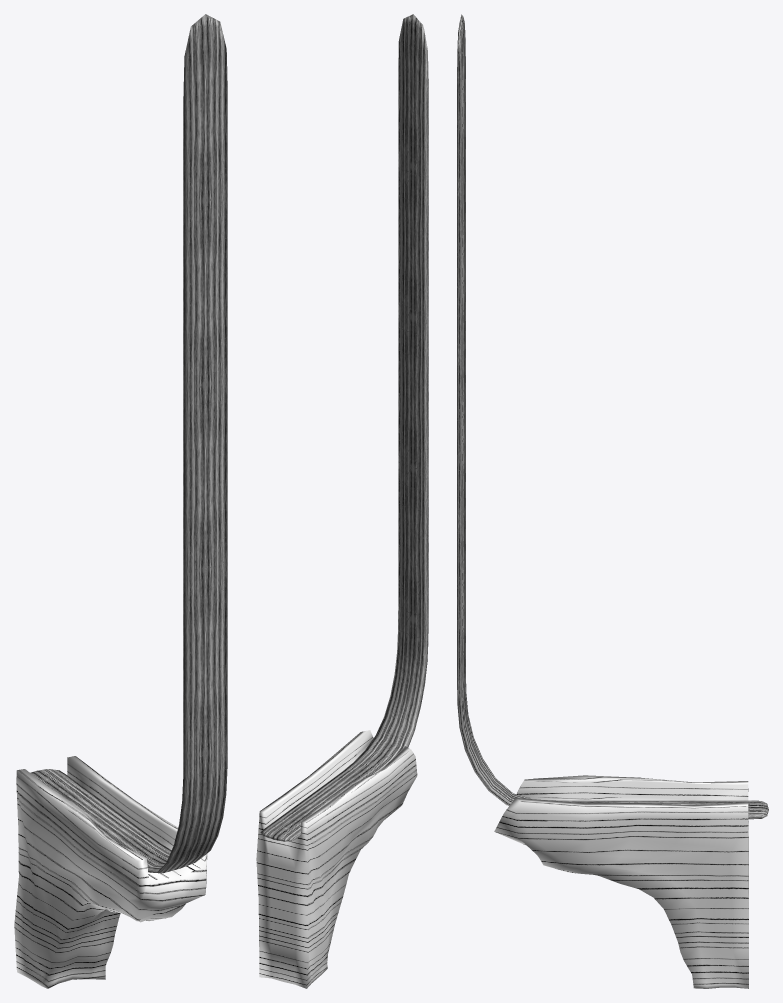
File: Aquaductwater.fbx
3 views of the same model, side by side, from view 1: azimuth 30°, elevation 25°; view 2: azimuth 150°, elevation 25°; view 3: azimuth 270°, elevation 25° (orthographic). The views are drawn at different scales.
Parts seen in each view (by area): view 1: Water Aquaduct, Aquaduct; view 2: Water Aquaduct, Aquaduct; view 3: Aquaduct, Water Aquaduct.
Boxes of the visible parts, x1=… form: Water Aquaduct: x1=30, y1=14, x2=227, y2=873; Aquaduct: x1=14, y1=756, x2=207, y2=988; Water Aquaduct: x1=260, y1=14, x2=428, y2=841; Aquaduct: x1=256, y1=730, x2=417, y2=988; Aquaduct: x1=494, y1=775, x2=748, y2=988; Water Aquaduct: x1=457, y1=14, x2=768, y2=819.
Size of the model in its own units: 71.89 by 975 by 286.
Materials: 2 (2 with a texture image).
